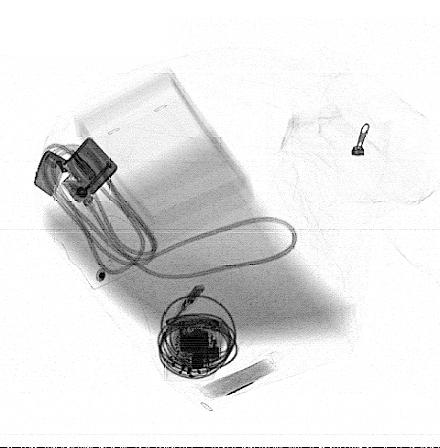Lighter: (34, 137, 118, 203)
